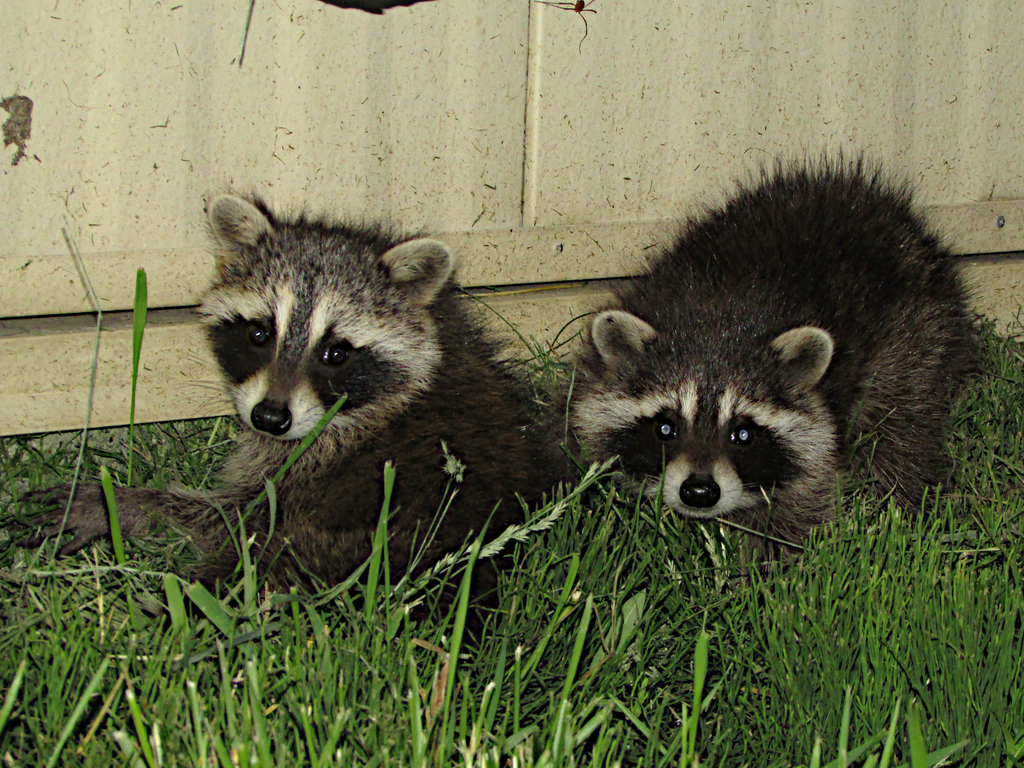raccoon: (13, 193, 564, 603), (570, 156, 986, 535)
